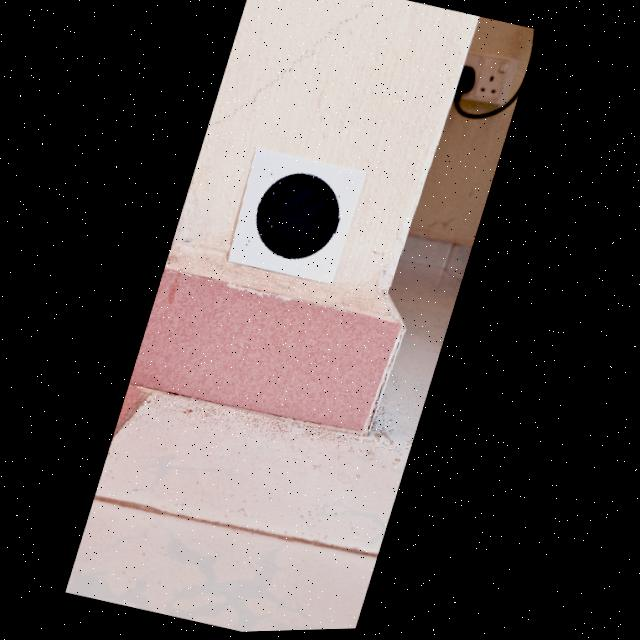CIRCLE: (258, 175, 342, 261)
